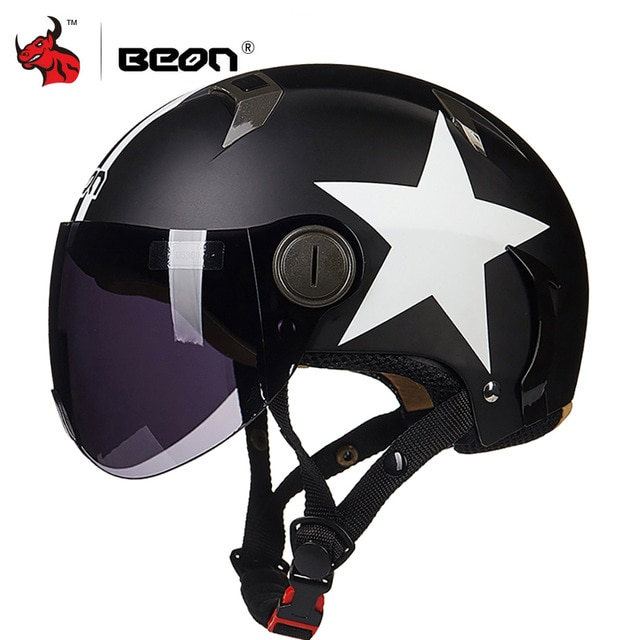with_helmet: (40, 59, 601, 490)
